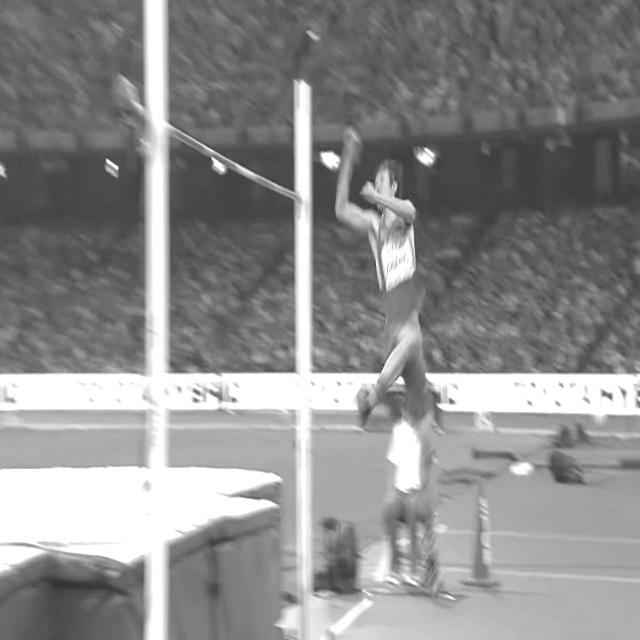jump: (336, 129, 454, 603)
